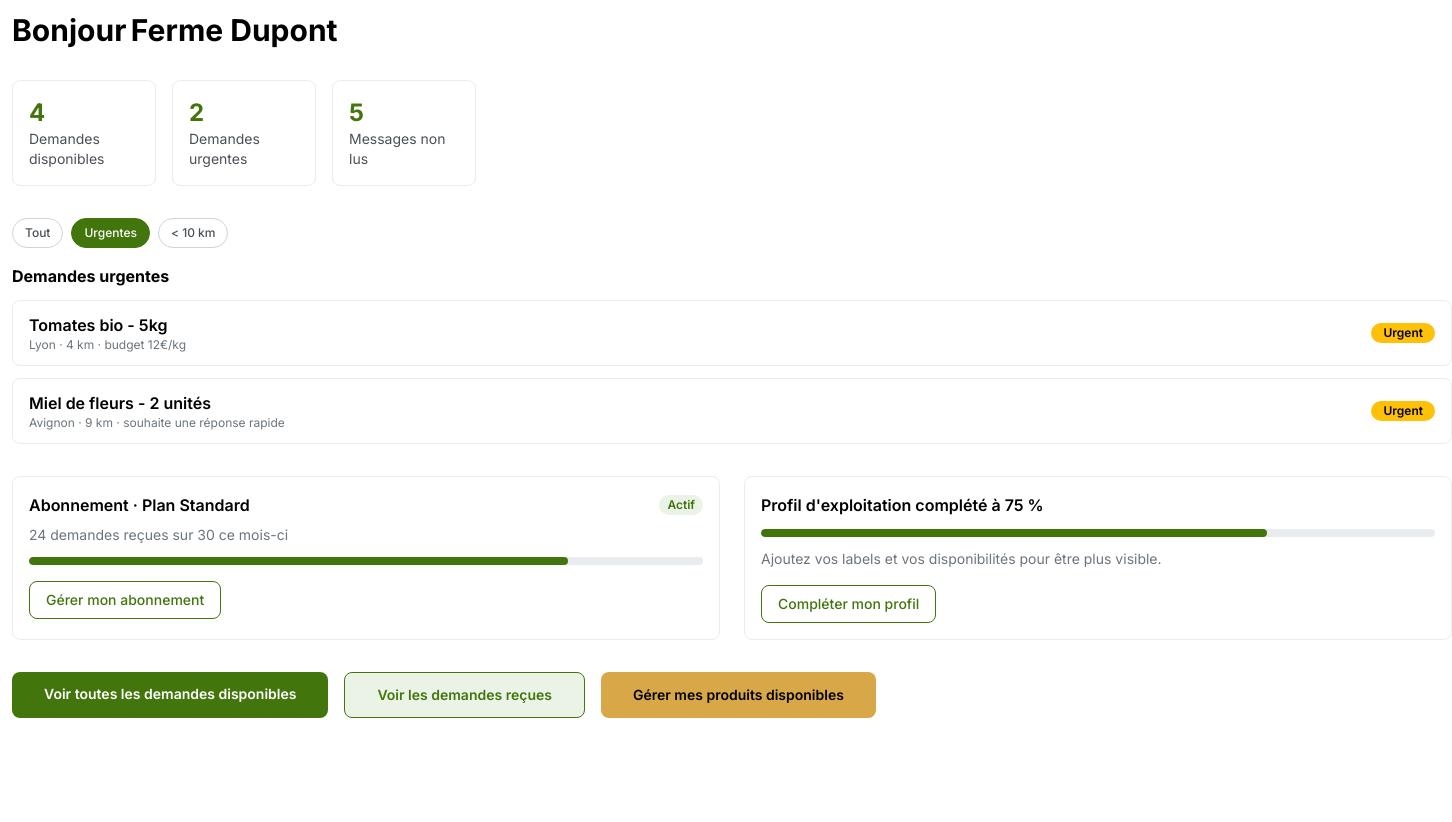
it: DashboardComponent › les filtres "Tout" et "< 10 km" changent la liste et son titre
The image size is (1452, 822).
Click the button "Tout". click: (38, 233)
box: x1=12 y1=218 x2=64 y2=248
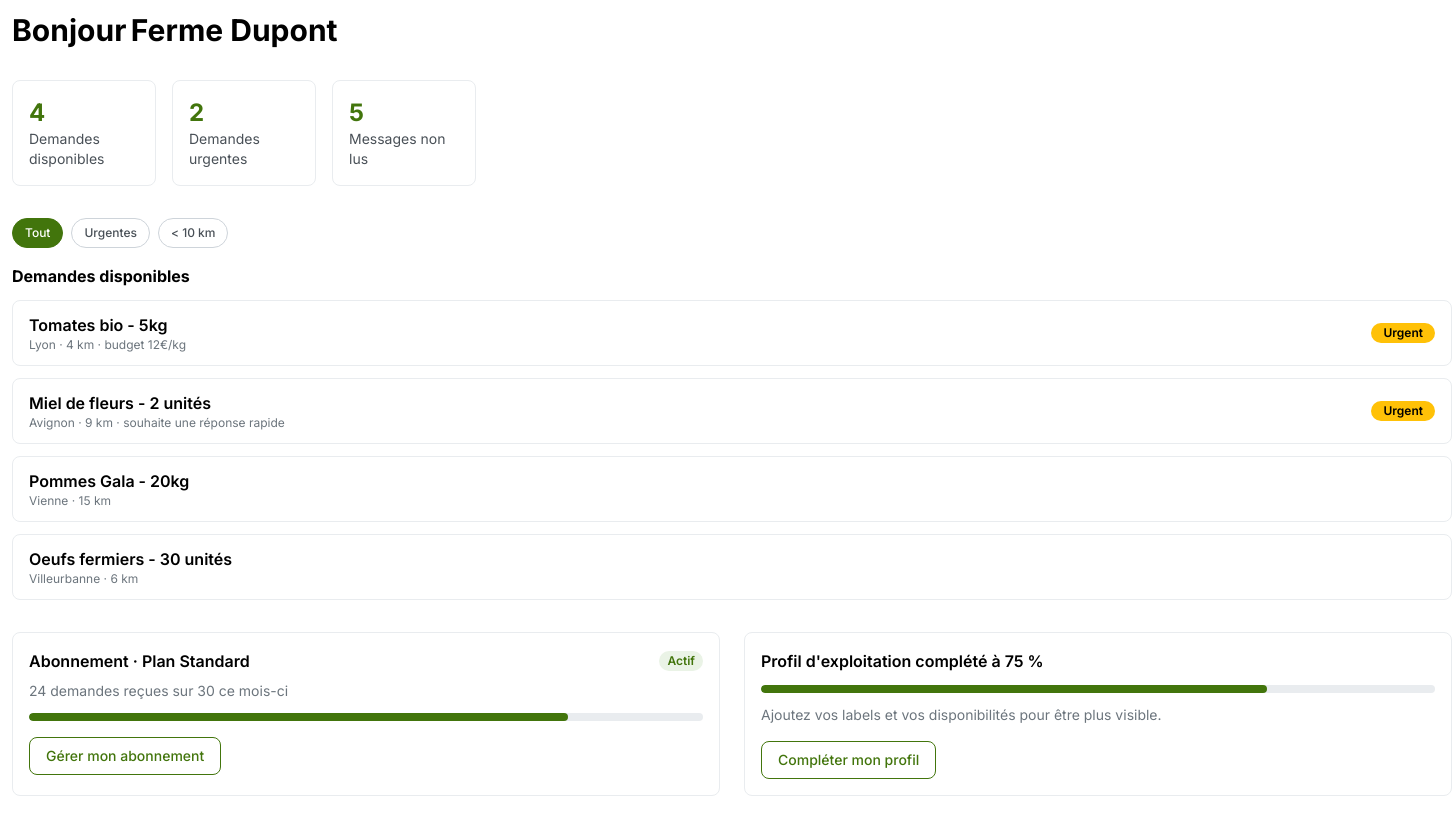
Check: the text "Demandes disponibles" is shown, box x1=29 y1=130 x2=104 y2=167
Click the button "< 10 km". click: (193, 233)
box: x1=158 y1=218 x2=228 y2=248
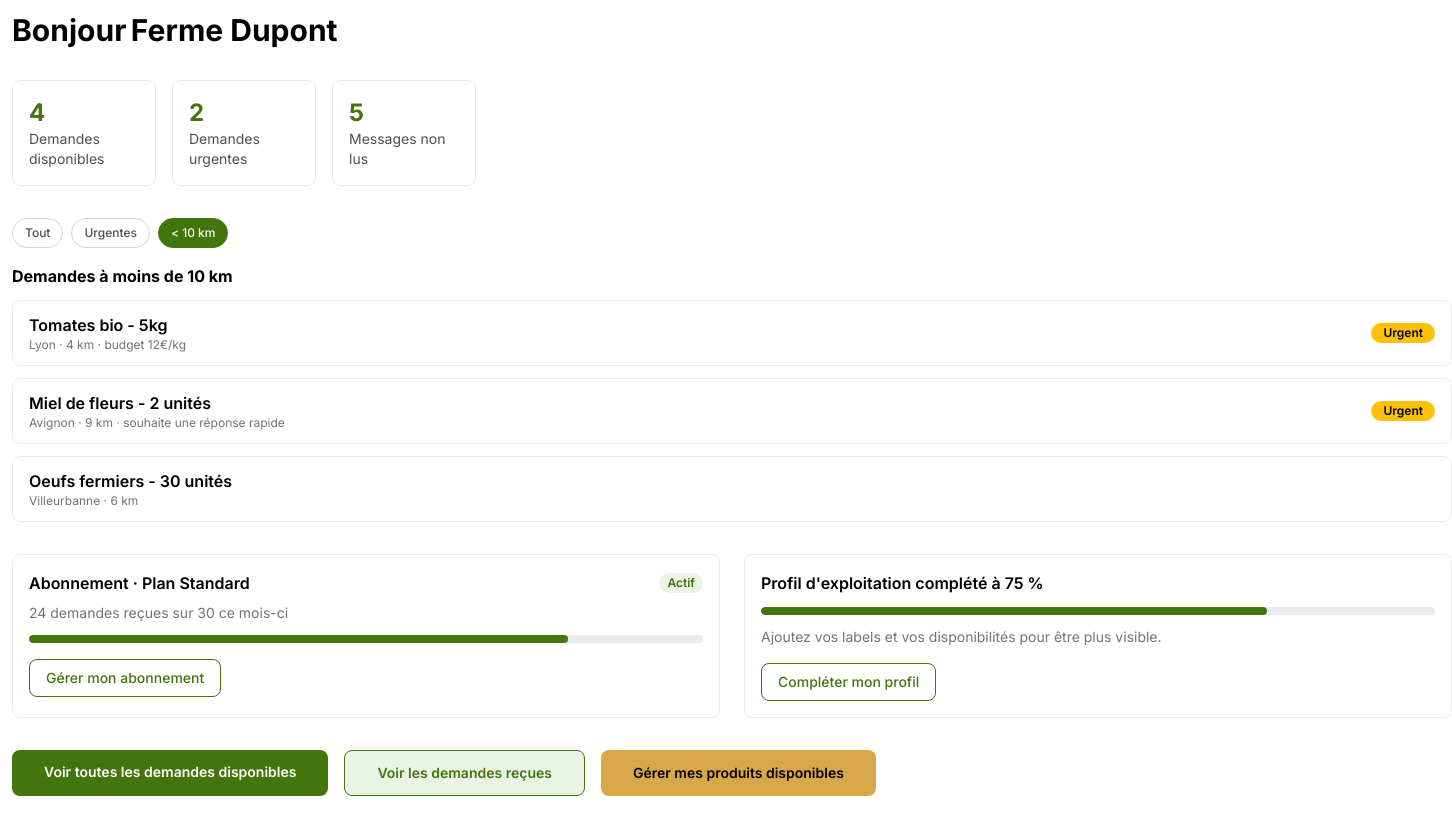
Check: the heading "Demandes à moins de 10 km" is shown, box x1=12 y1=266 x2=233 y2=286
